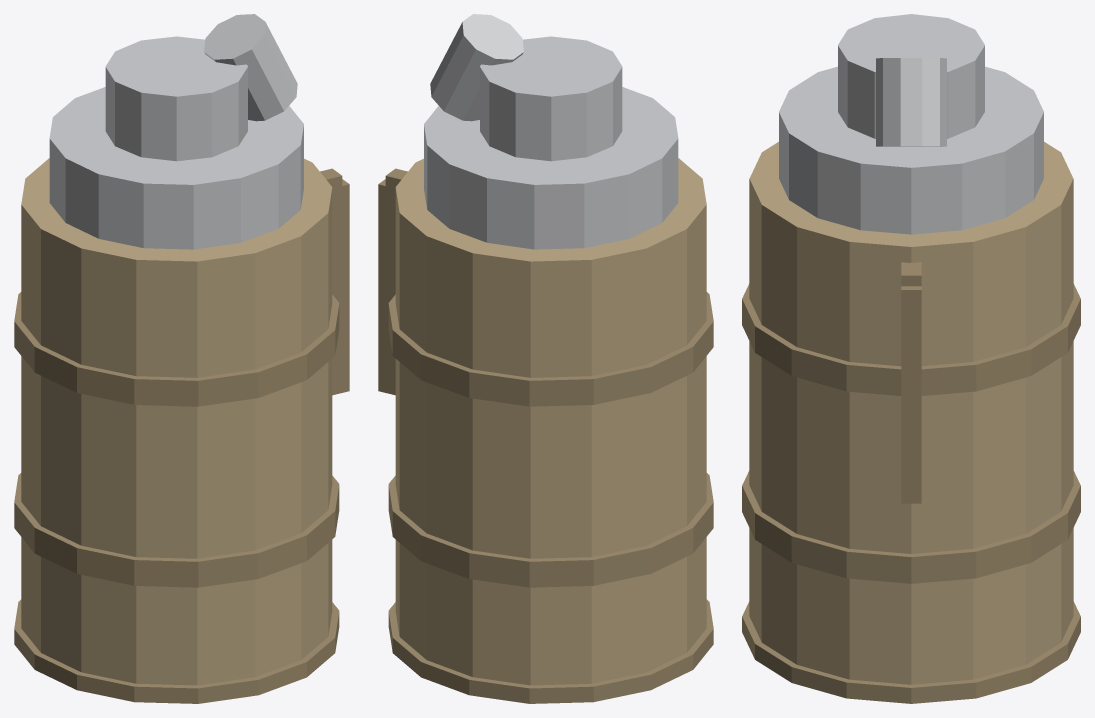
File: thermos_bottle.glb
The picture shows the model from 3 angles, left to right: view 1: azimuth 30°, elevation 25°; view 2: azimuth 150°, elevation 25°; view 3: azimuth 270°, elevation 25°; orthographic projection. The views are drawn at different scales.
Visible parts, largest first — view 1: thermos_bottle; view 2: thermos_bottle; view 3: thermos_bottle.
Boxes of the visible parts, x1=… form: thermos_bottle: x1=14, y1=14, x2=349, y2=703; thermos_bottle: x1=378, y1=14, x2=713, y2=703; thermos_bottle: x1=742, y1=14, x2=1080, y2=703.
Size of the model in its own units: 0.251 by 0.4619 by 0.23.
